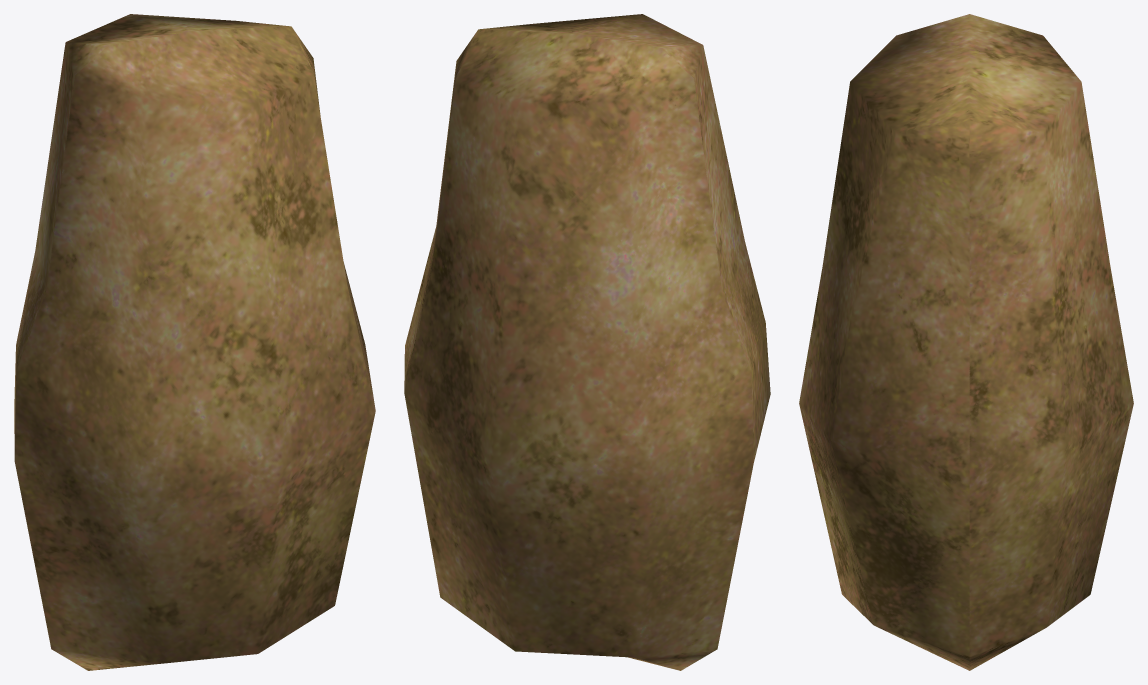
Rendered from Rock01_MDL.fbx.
3 views of the same model, side by side, from view 1: azimuth 30°, elevation 25°; view 2: azimuth 150°, elevation 25°; view 3: azimuth 270°, elevation 25° (orthographic). The views are drawn at different scales.
Parts seen in each view (by area): view 1: Rock01; view 2: Rock01; view 3: Rock01.
Boxes of the visible parts, x1=… form: Rock01: x1=14, y1=14, x2=375, y2=670; Rock01: x1=404, y1=14, x2=770, y2=670; Rock01: x1=799, y1=14, x2=1133, y2=670.
Size of the model in its own units: 380 by 643 by 335.
Materials: 1 (1 with a texture image).
